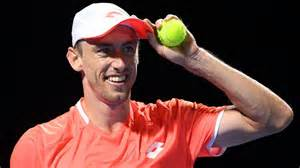tennis_ball: (156, 18, 186, 46)
